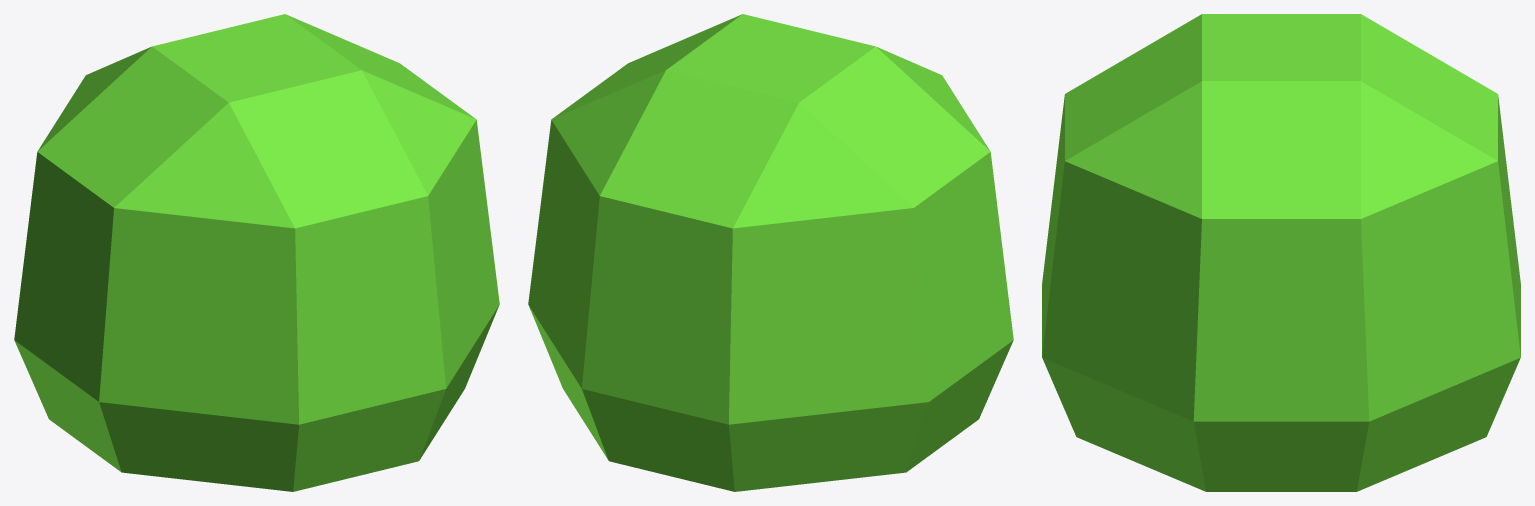
File: SimpleBushRound.glb
The picture shows the model from 3 angles, left to right: view 1: azimuth 30°, elevation 25°; view 2: azimuth 150°, elevation 25°; view 3: azimuth 270°, elevation 25°; orthographic projection. The views are drawn at different scales.
Parts seen in each view (by area): view 1: Cube; view 2: Cube; view 3: Cube.
Part boxes in pixels (x1,y1,x2,y2): Cube: [14, 14, 499, 491]; Cube: [528, 14, 1013, 491]; Cube: [1042, 14, 1520, 491].
Size of the model in its own units: 2.21 by 2 by 2.21.
